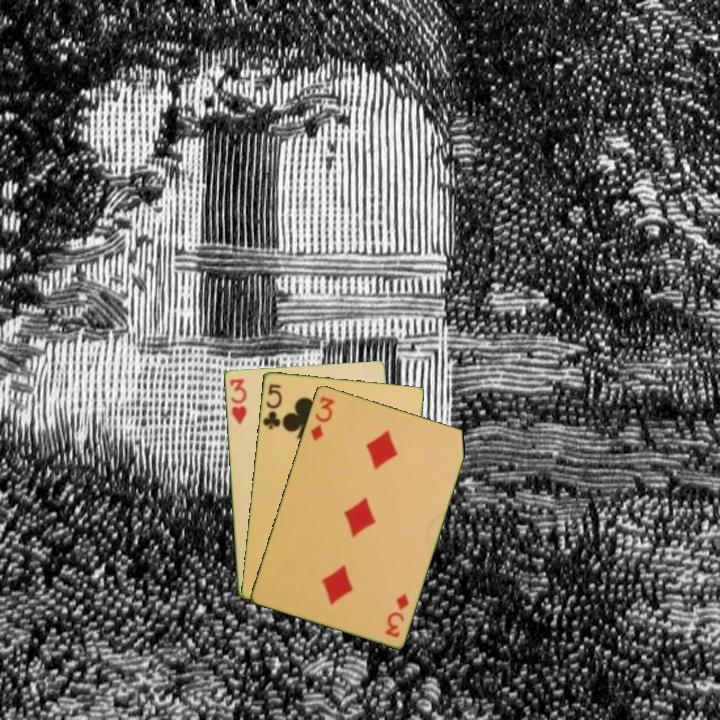3d: (381, 589, 412, 640), (307, 393, 337, 444)
3h: (226, 375, 249, 427)
5c: (259, 380, 285, 432)
